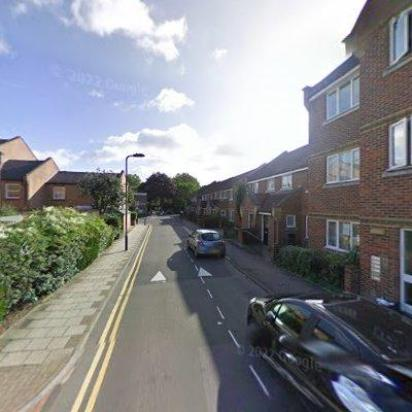stationary-car-onstreet: (244, 290, 412, 412), (189, 227, 227, 261)
